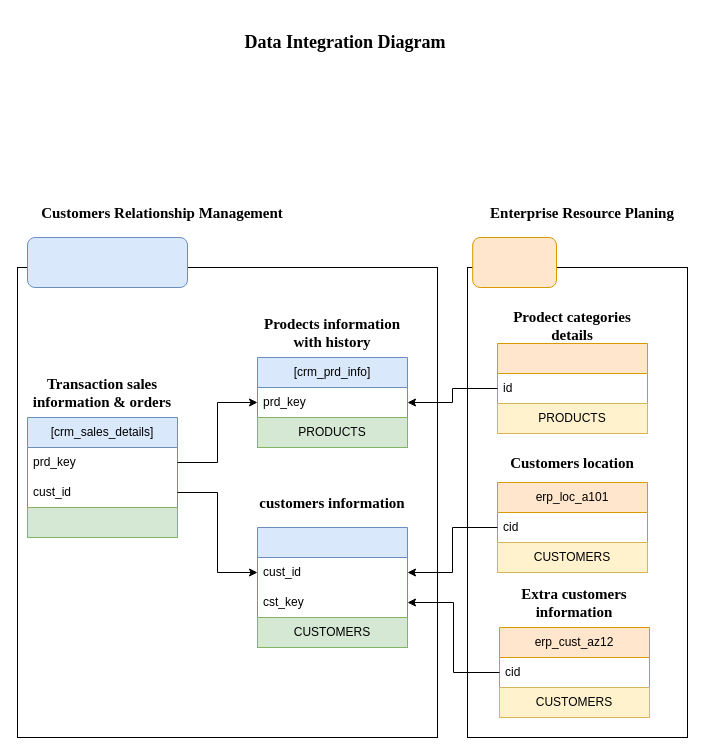
Image size: 715x755. Some labels were removed from this diagram. Here are the shapes that lost their labels. From the top down, the box of each, then its label:
(26, 236, 188, 288): CRM
(472, 236, 556, 288): ERP
(496, 342, 648, 404): erp_px_cat_g1v2
(26, 506, 178, 538): SALES
(256, 526, 408, 648): [crm_cust_info]
